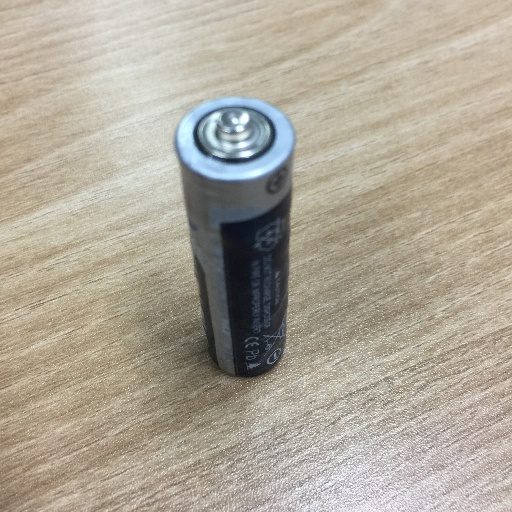Battery_0: (159, 81, 302, 383)
